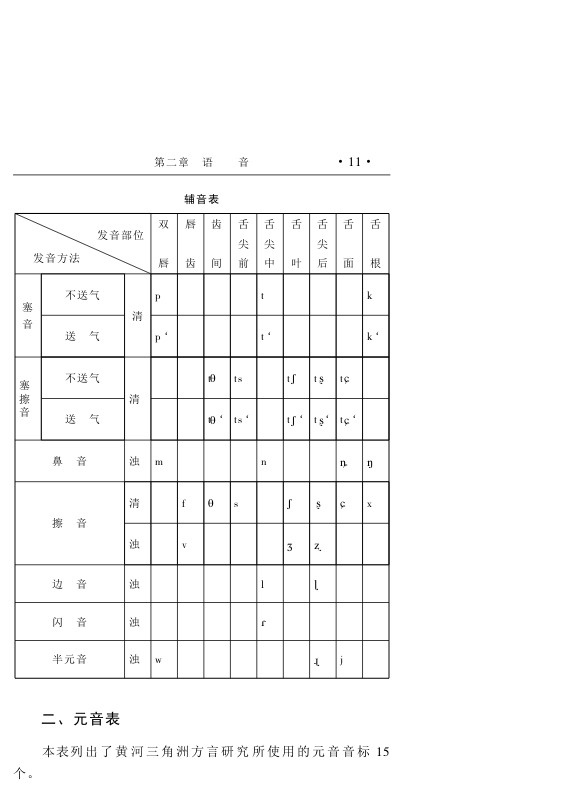table: (14, 213, 390, 678)
